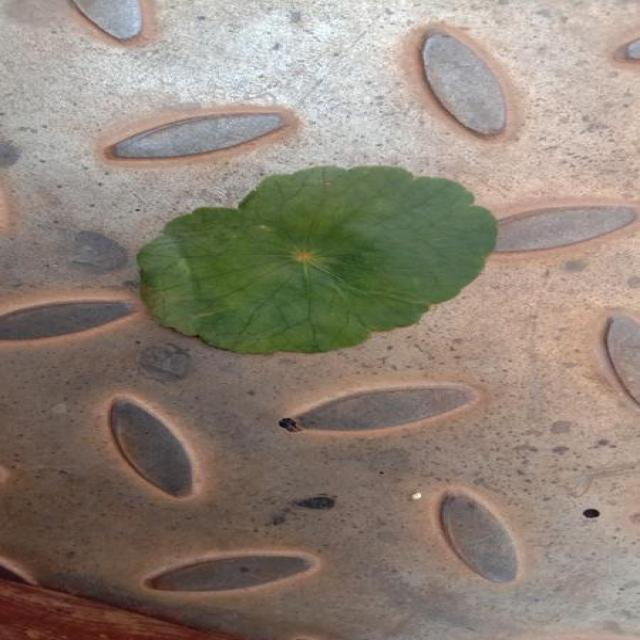bhrami: (137, 166, 497, 353)
